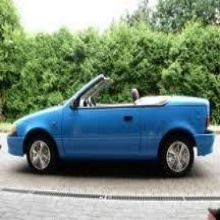no damage: (8, 74, 214, 178)
